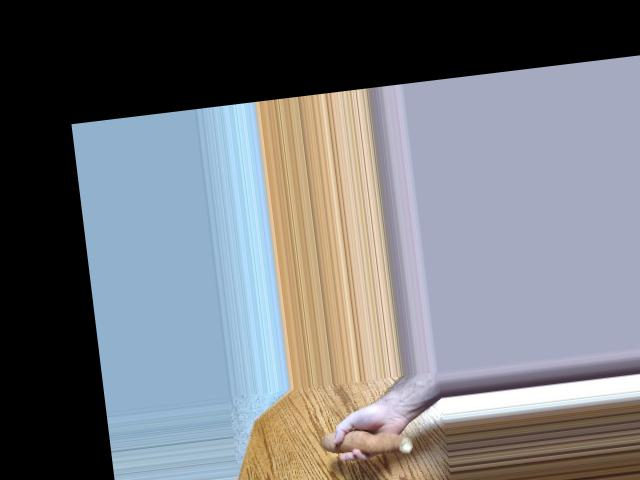sweet_potato: (312, 418, 415, 461)
